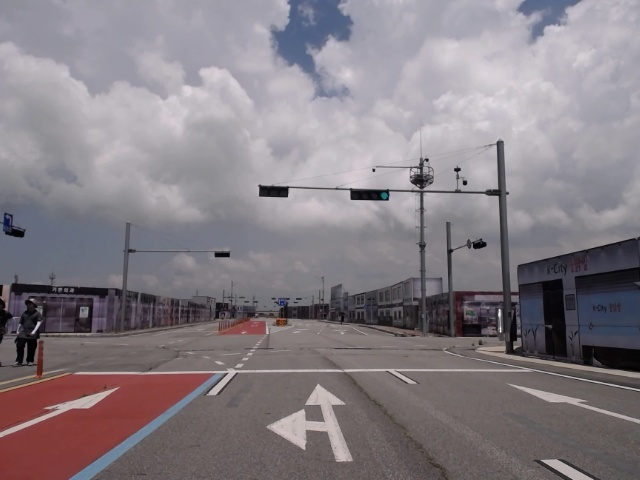straight_green_4: (348, 188, 388, 201)
